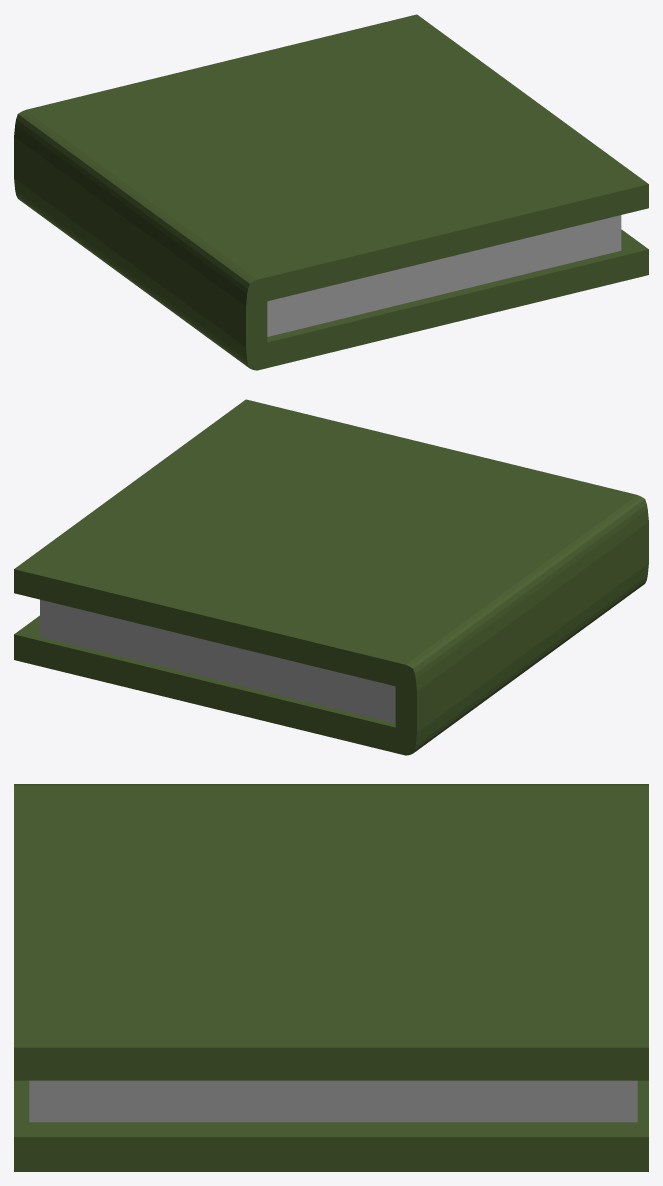
Rendered from Book.glb.
The picture shows the model from 3 angles, top to bottom: view 1: azimuth 30°, elevation 25°; view 2: azimuth 150°, elevation 25°; view 3: azimuth 270°, elevation 25°; orthographic projection. The views are drawn at different scales.
Parts seen in each view (by area): view 1: Cube; view 2: Cube; view 3: Cube.
Part boxes in pixels (left/top/right/bottom): Cube: left=14, top=14, right=648, bottom=370; Cube: left=14, top=399, right=648, bottom=755; Cube: left=14, top=784, right=648, bottom=1171.
Bounding box in the file's own units: 2.01 × 0.432 × 2.
